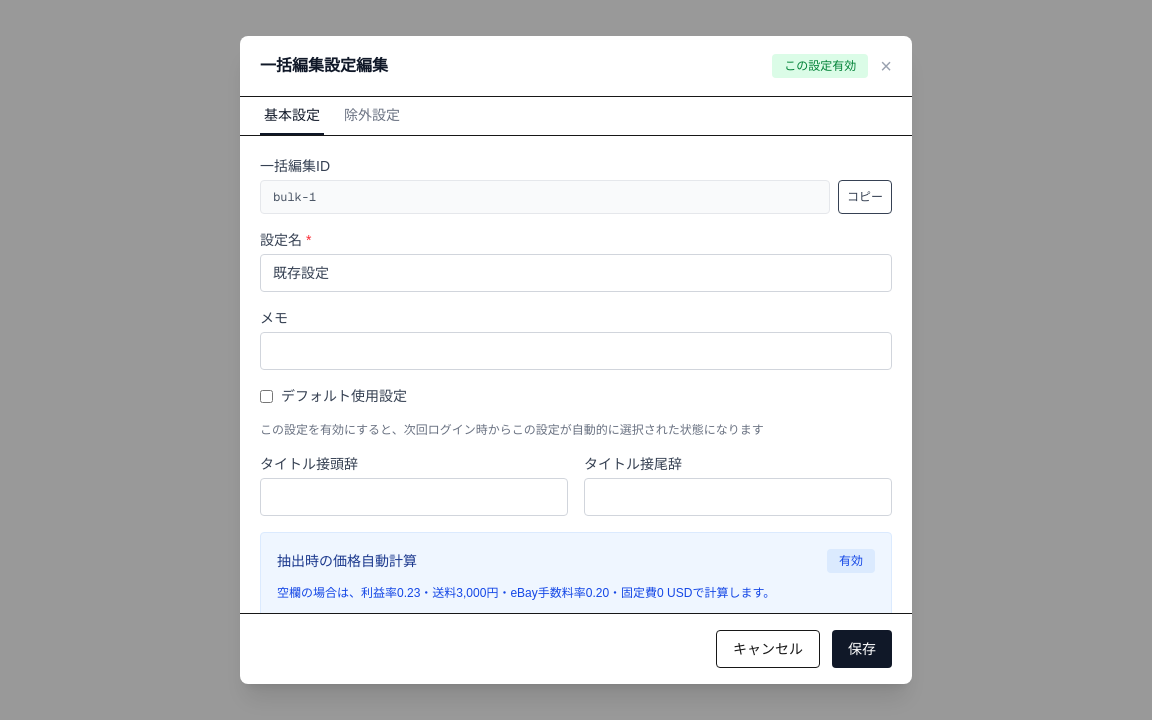
Scenario: BulkEditSettingModal › 「抽出危険設定の登録URLを一括反映」を押すと、グローバル設定のセラーURLがまとめて追加される
This screenshot has width=1152, height=720.
Click the button "除外設定": (372, 116) [340,97,404,135]
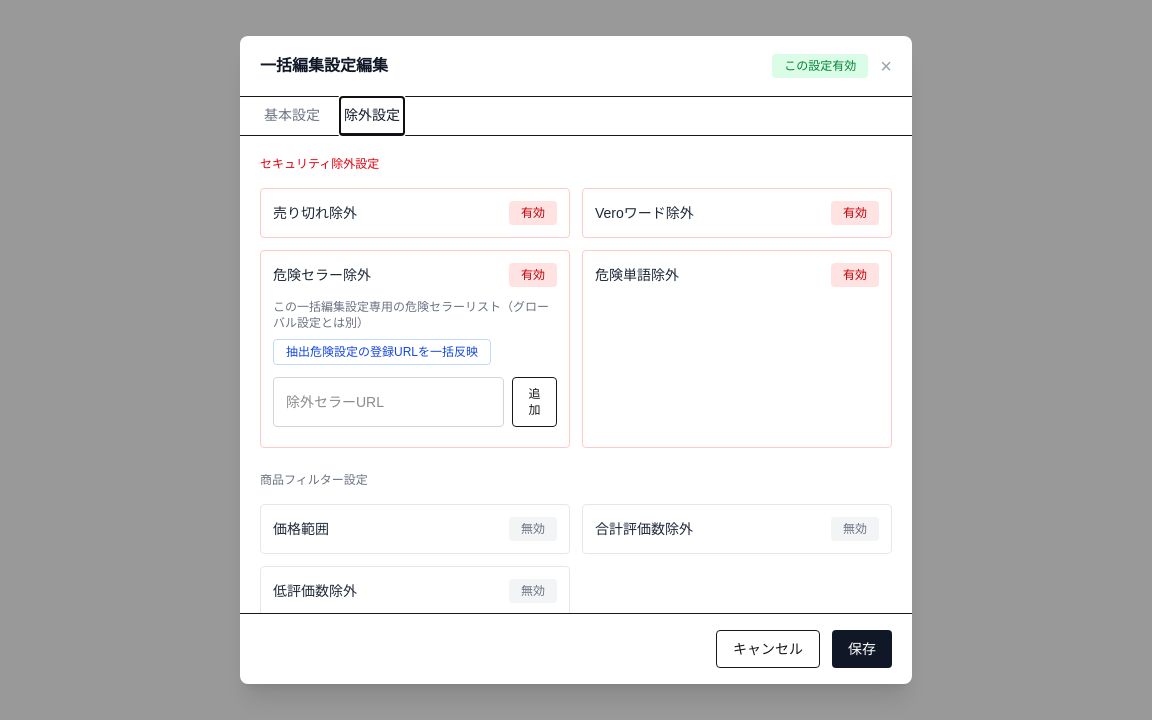
Click the button "抽出危険設定の登録URLを一括反映": (382, 352) [273,339,491,365]
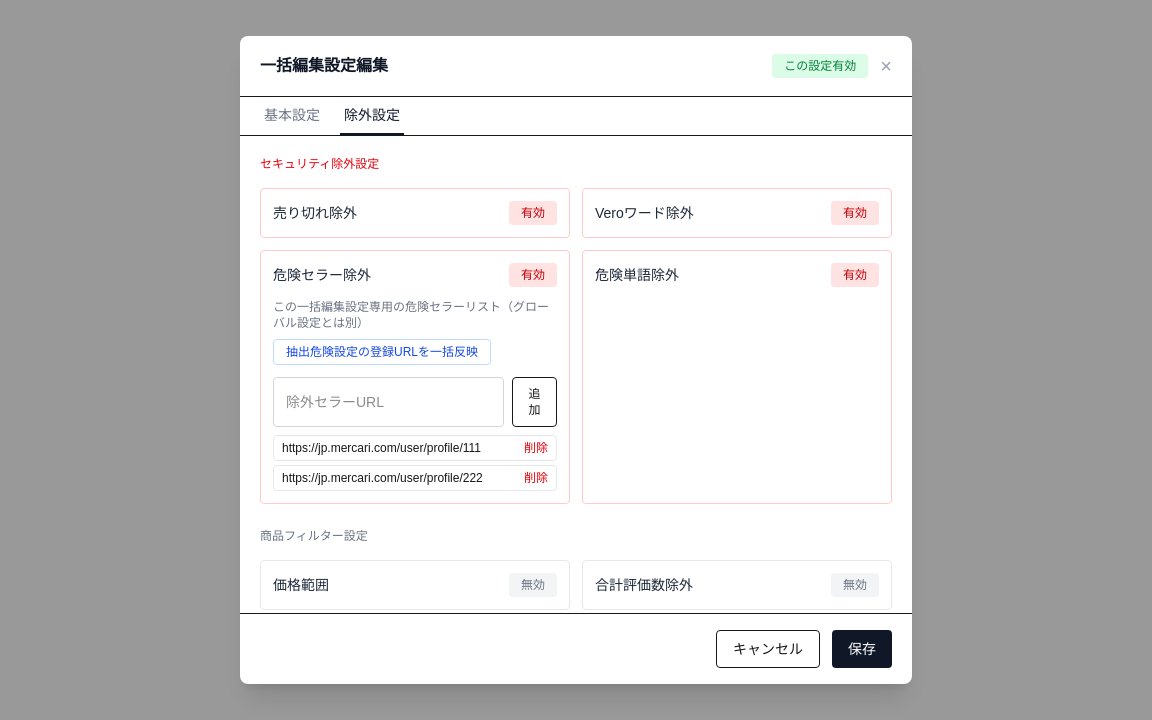
expect the text "https://jp.mercari.com/user/profile/111" is shown: met, box [282,440,481,456]
expect the text "https://jp.mercari.com/user/profile/222" is shown: met, box [282,470,483,486]
